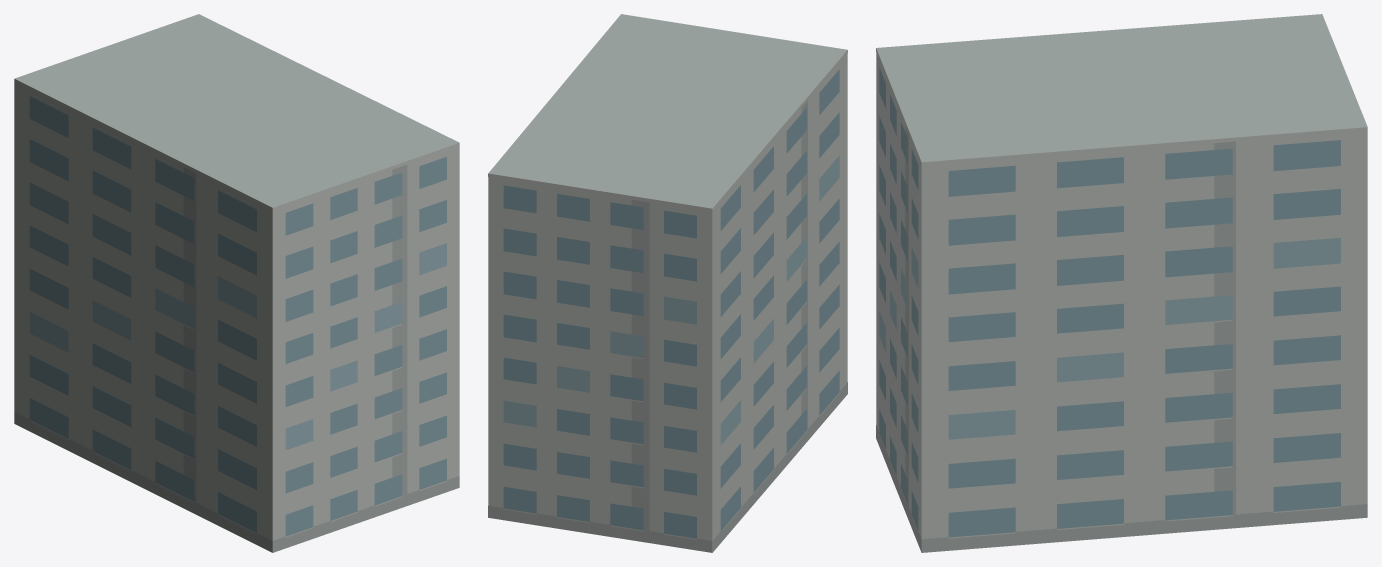
File: survey-upis-32570213.glb
3 renders of one model, left to right at view 1: azimuth 30°, elevation 25°; view 2: azimuth 150°, elevation 25°; view 3: azimuth 270°, elevation 25°, orthographic. The views are drawn at different scales.
Visible parts, largest first — view 1: survey-upis-32570213.tmp; view 2: survey-upis-32570213.tmp; view 3: survey-upis-32570213.tmp.
Boxes of the visible parts, x1,y1,x2,y2 form: survey-upis-32570213.tmp: [14, 14, 459, 552]; survey-upis-32570213.tmp: [488, 14, 847, 552]; survey-upis-32570213.tmp: [876, 14, 1367, 552].
Bounding box in the file's own units: 19.15 × 23.5 × 26.82.
